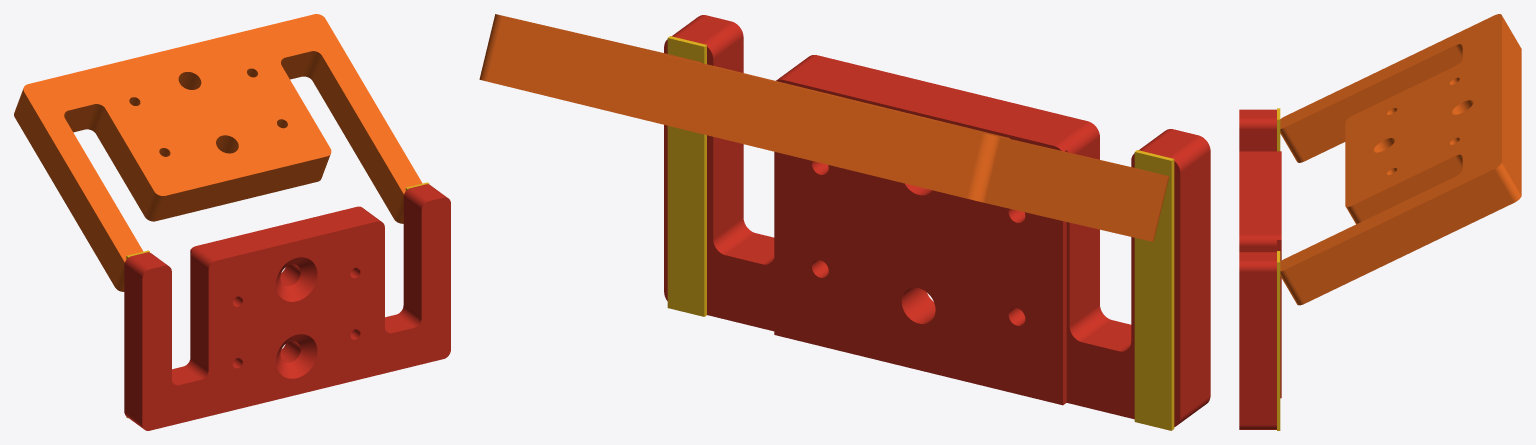
File: HR-V0_J2_positive_stop_contact_candidate.glb
3 renders of one model, left to right at view 1: azimuth 30°, elevation 25°; view 2: azimuth 150°, elevation 25°; view 3: azimuth 270°, elevation 25°, orthographic. The views are drawn at different scales.
Visible parts, largest first — view 1: MV0-C06_MOVING_STRIKER_AT_CONTACT, MV0-C07_FIXED_CATCH; view 2: MV0-C07_FIXED_CATCH, MV0-C06_MOVING_STRIKER_AT_CONTACT, BUMPER_SR1_MAXIMUM_ENVELOPE_SELECTION_REQUIRED; view 3: MV0-C06_MOVING_STRIKER_AT_CONTACT, MV0-C07_FIXED_CATCH, BUMPER_SR1_MAXIMUM_ENVELOPE_SELECTION_REQUIRED.
Part boxes in pixels (bbox=[...]): MV0-C06_MOVING_STRIKER_AT_CONTACT: bbox=[14, 14, 422, 291]; MV0-C07_FIXED_CATCH: bbox=[124, 184, 450, 430]; MV0-C07_FIXED_CATCH: bbox=[664, 15, 1210, 426]; MV0-C06_MOVING_STRIKER_AT_CONTACT: bbox=[479, 14, 1169, 241]; BUMPER_SR1_MAXIMUM_ENVELOPE_SELECTION_REQUIRED: bbox=[667, 36, 1174, 430]; MV0-C06_MOVING_STRIKER_AT_CONTACT: bbox=[1280, 14, 1521, 305]; MV0-C07_FIXED_CATCH: bbox=[1239, 109, 1281, 429]; BUMPER_SR1_MAXIMUM_ENVELOPE_SELECTION_REQUIRED: bbox=[1277, 108, 1280, 430].
Bounding box in the file's own units: 84 × 66.05 × 63.66.
